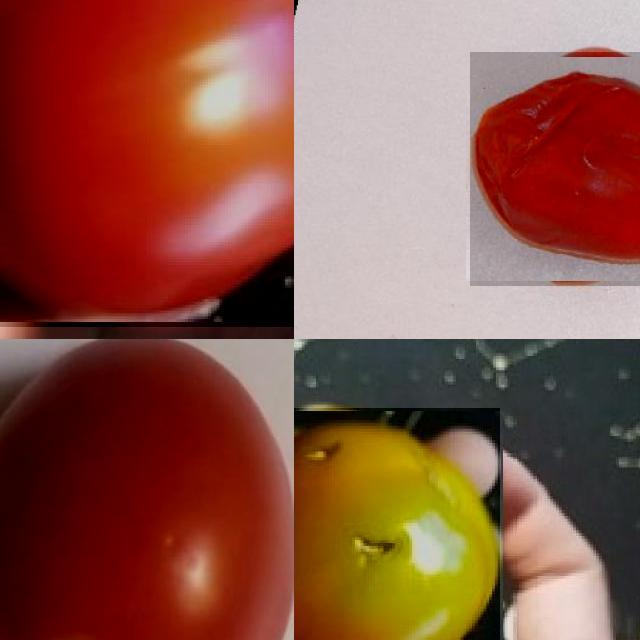Fresh Tomato: (0, 0, 294, 326), (0, 339, 294, 640)
Rotten Tomato: (294, 407, 499, 640), (470, 51, 640, 286)
